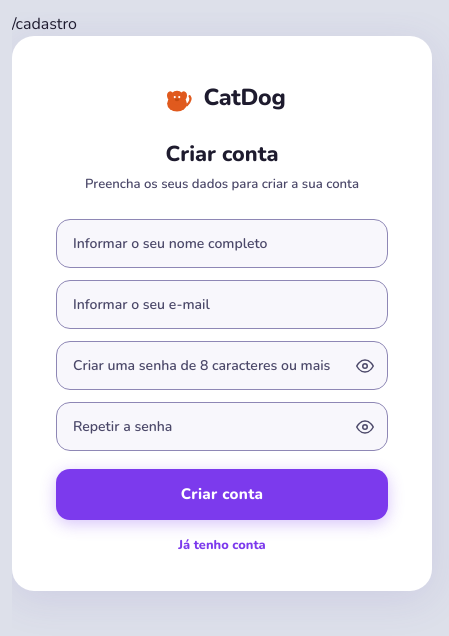
Test case: RegisterPage — validacao local › CT-03: senha curta reprova no cliente, sem requisicao
Type "Caio Cliente" into the field labelled "nome completo" at (222, 244), box [56,219,388,268]
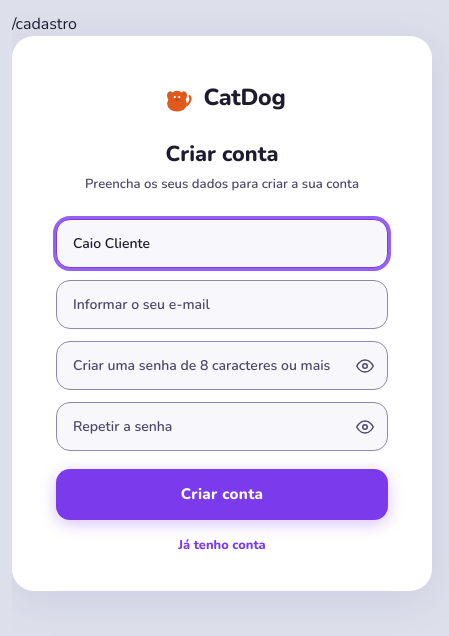
Type "pessoa@catdog.test" into the field labelled "e-mail" at (222, 305), box [56,280,388,329]
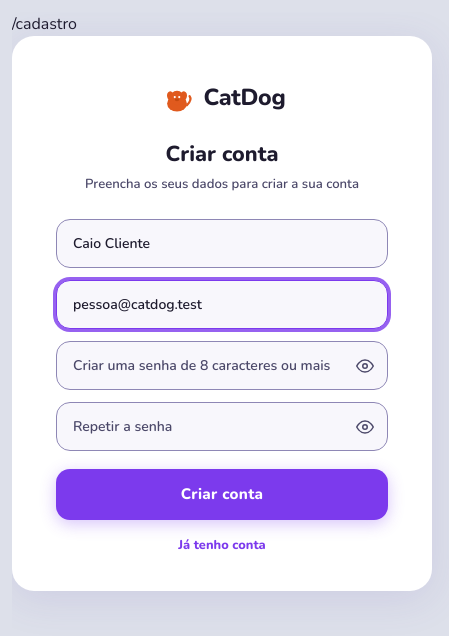
Type "Abc1234" into the password field labelled "senha" at (222, 366), box [56,341,388,390]
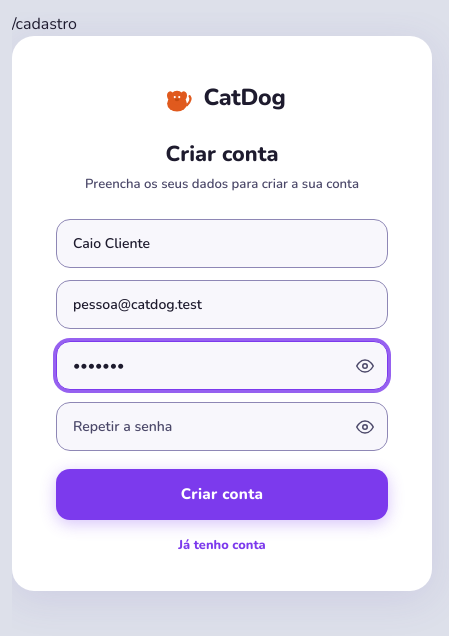
Type "Abc1234" into the password field named "Confirmação de senha" at (222, 427), box [56,402,388,451]
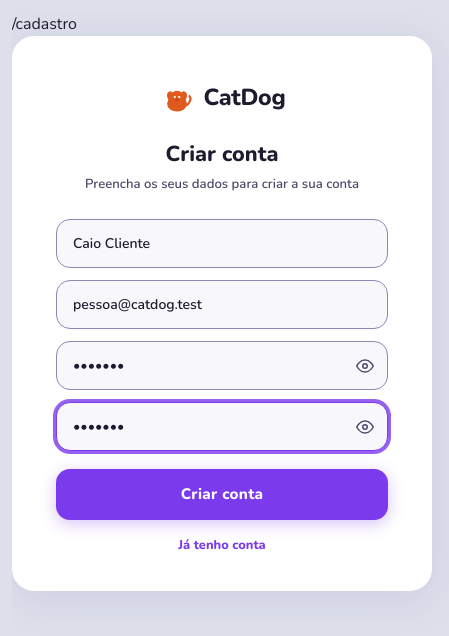
Click the button "Criar conta" at (222, 494), box [56,469,388,520]
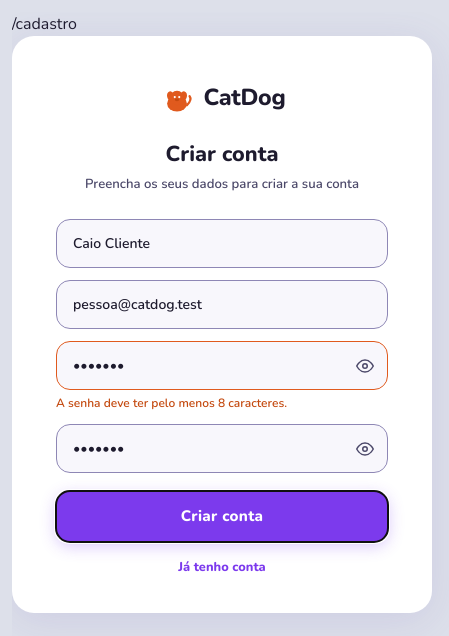
Expected: the text "A senha deve ter pelo menos 8 caracteres." is shown, [56,395,287,411]
